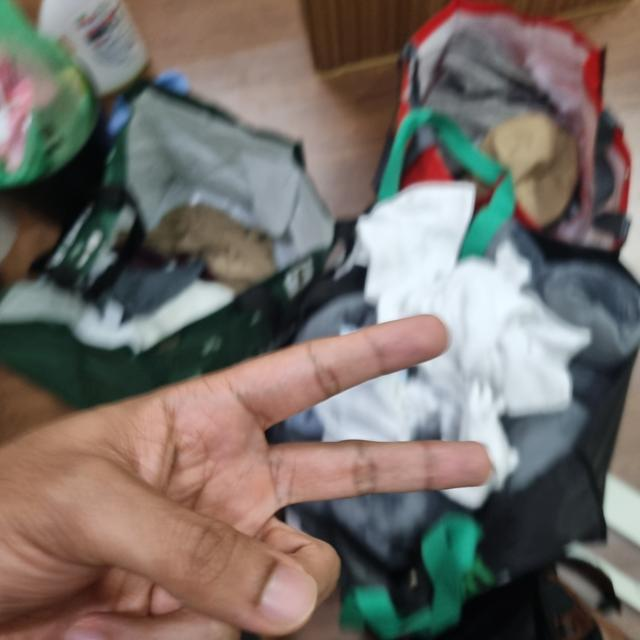Scissors: (0, 324, 487, 639)
